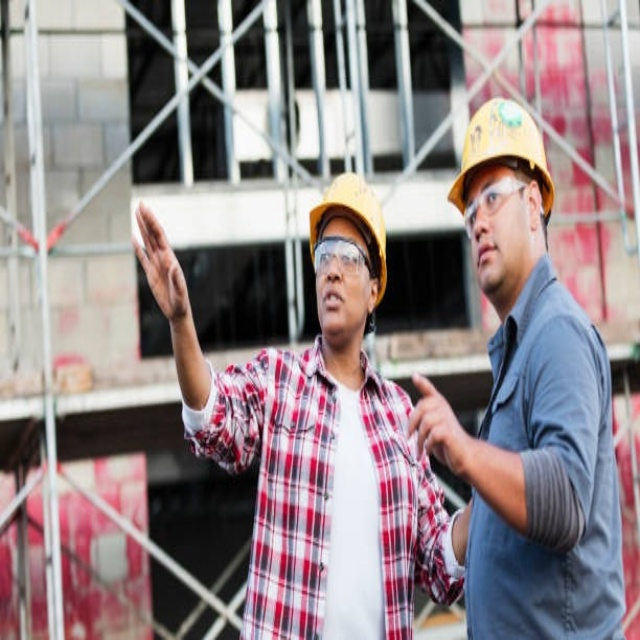Gafas: (464, 177, 528, 236), (313, 238, 374, 280)
Sin_guantes: (133, 197, 191, 318), (404, 369, 468, 476)
Sin_mascara: (474, 237, 503, 276), (321, 282, 346, 324)
